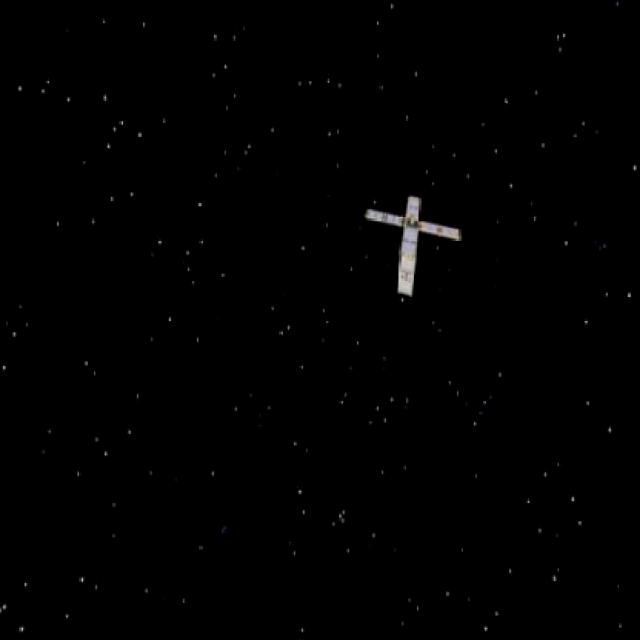medium_debris: (363, 184, 465, 304)
